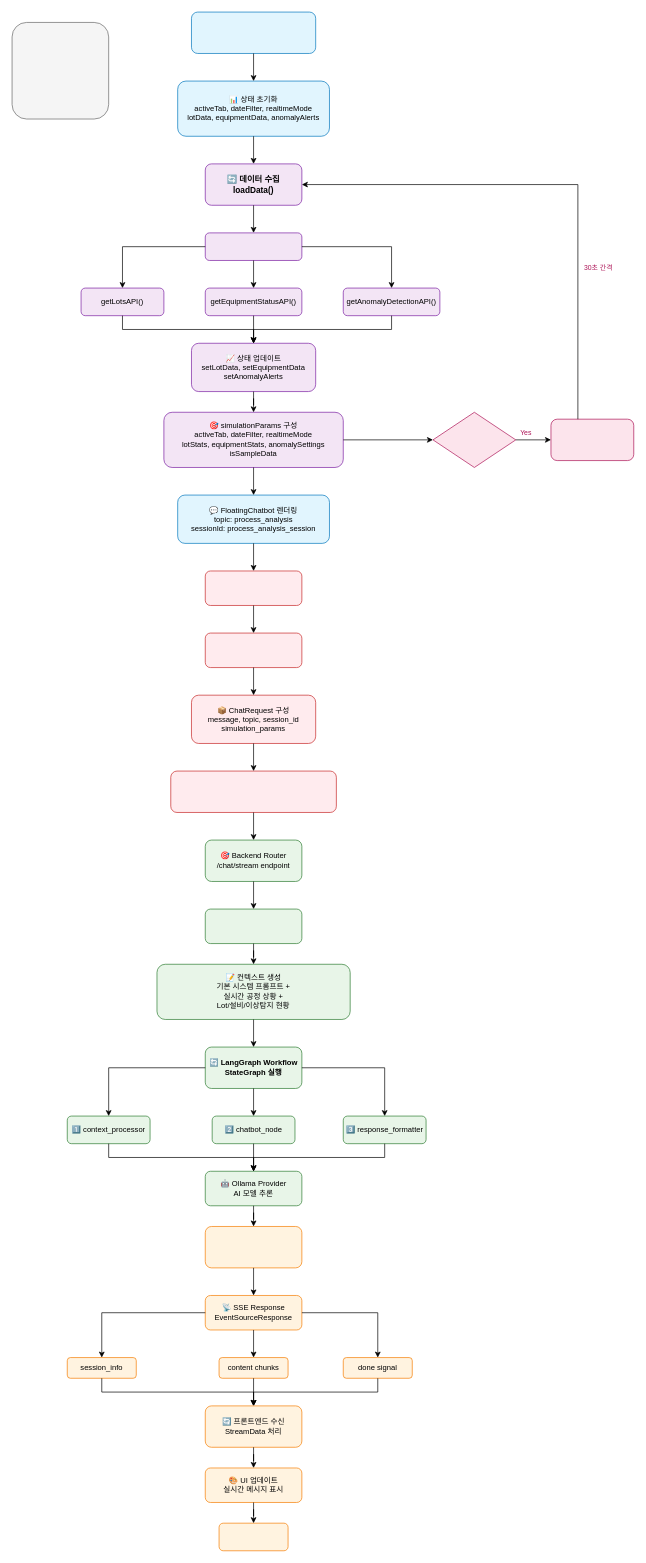
The diagram is 646 pixels wide and 1563 high, and some of its shapes have lost their labels. The centre of each missing label's shape, as x and y in pixels:
⏰ 30초 간격 자동 데이터 갱신: point (592, 439)
✅ 대화 완료: point (253, 1536)
👤 사용자 메시지 입력: point (253, 587)
📋 범례 🔵 초기화/UI 🟣 데이터 수집 🔴 사용자 상호작용 🟢 AI/백엔드 처리 🟠 스트리밍 응답 🔴 실시간 모드: point (60, 70)
📡 API 병렬 호출: point (253, 246)
📡 chatbotClient.streamChat() HTTP POST to /api/v1/chatbot/chat/stream: point (253, 791)
🔄 실시간 모드?: point (474, 439)
🔧 useChatbot Hook sendMessage(): point (253, 650)
🚀 Process Analysis Page 초기화: point (253, 32)
🚀 스트리밍 응답 생성 async generator: point (253, 1247)
🧠 Context Engineering create_context(): point (253, 926)
